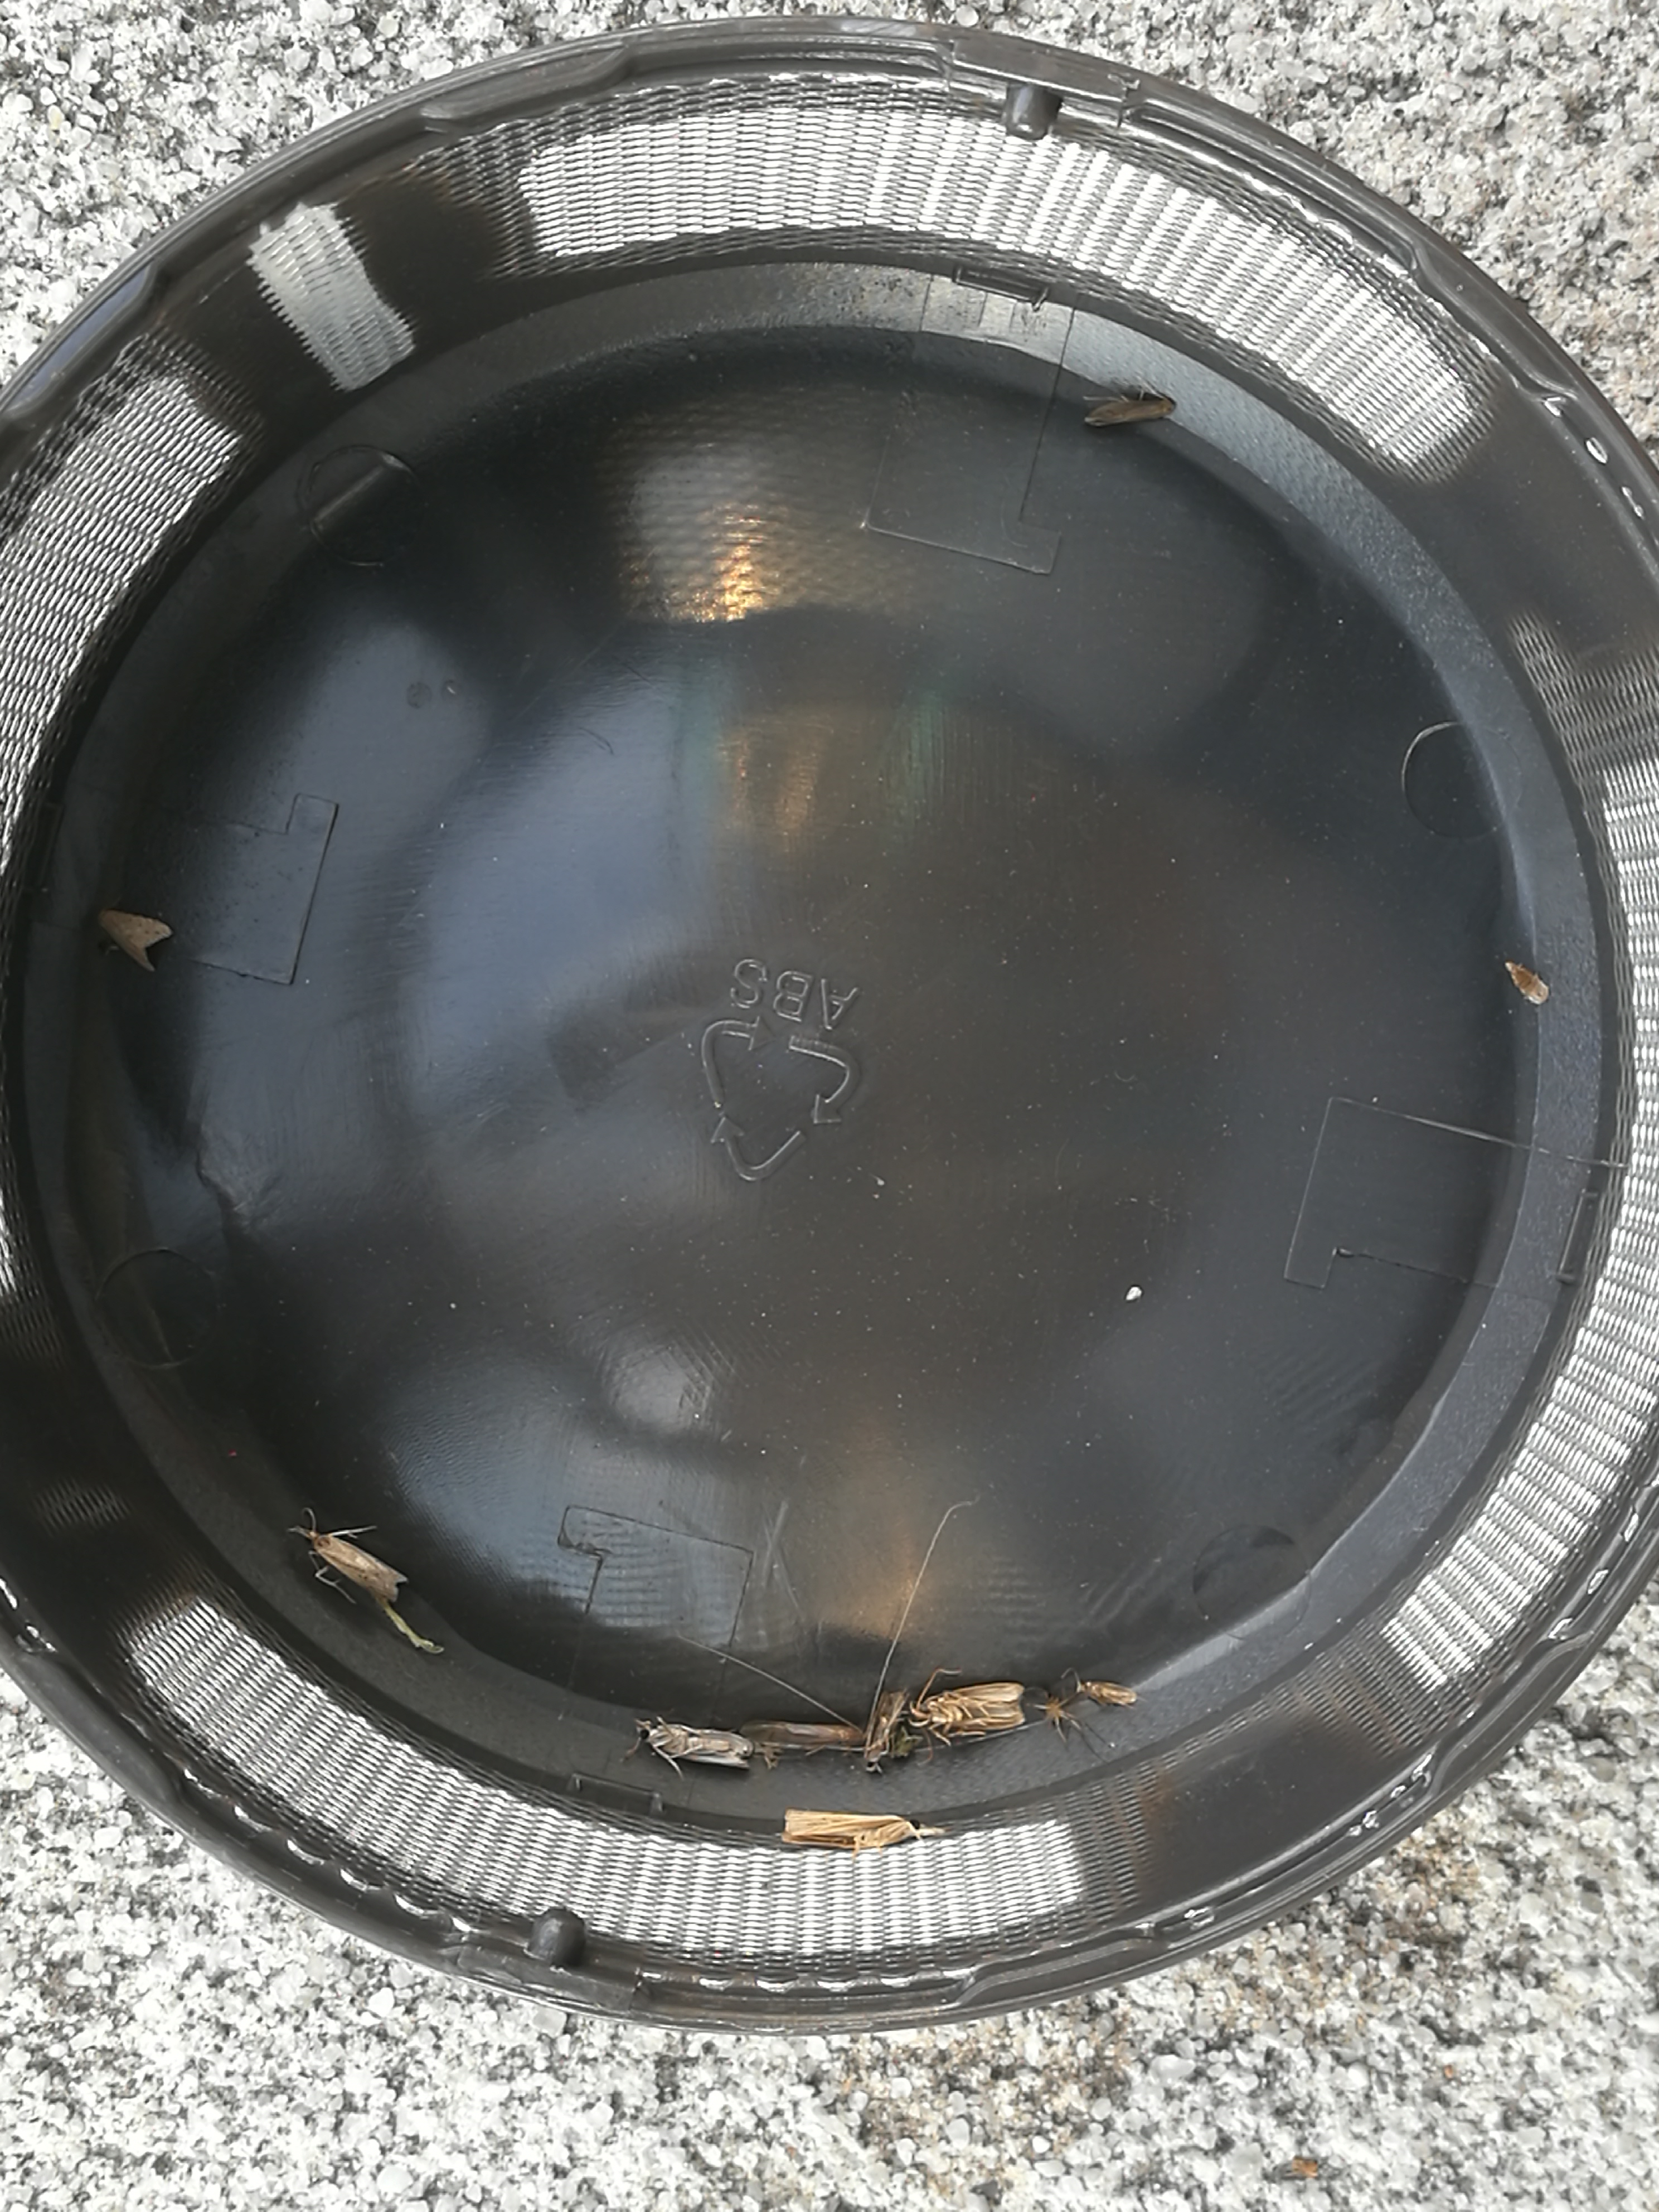mosquito: (308, 1529, 408, 1601), (636, 1719, 751, 1768), (782, 1811, 920, 1846), (864, 1691, 906, 1771), (741, 1721, 861, 1747), (1087, 401, 1175, 423), (1073, 1681, 1134, 1707)
moth: (96, 906, 173, 972), (922, 1684, 1025, 1730)
